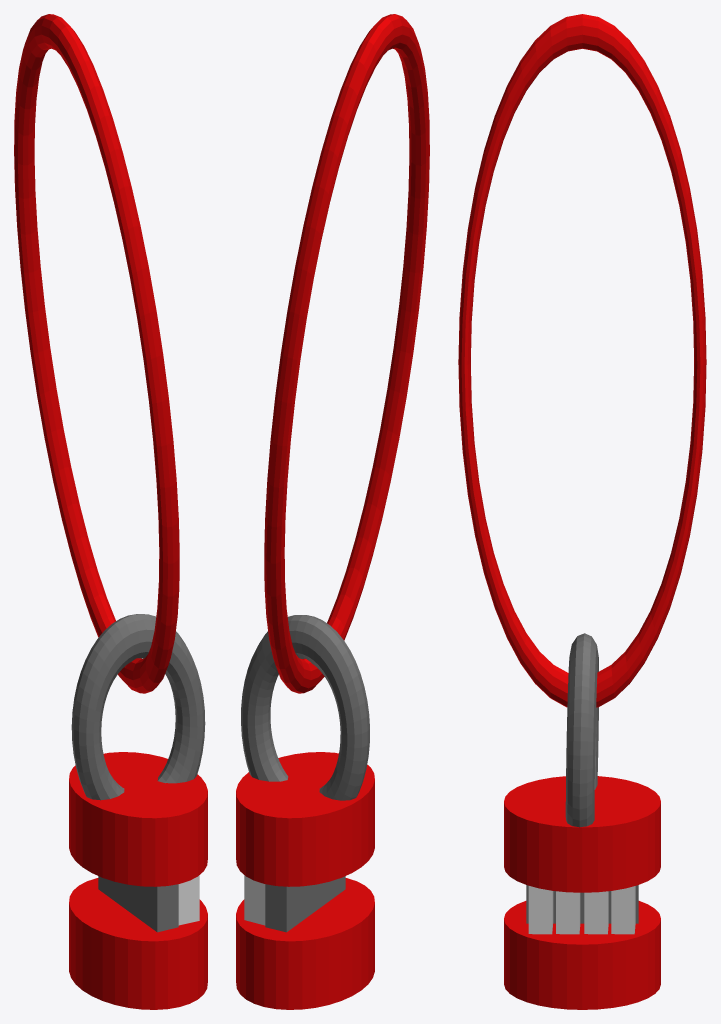
The model's file is redlock4.fbx.
3 renders of one model, left to right at view 1: azimuth 30°, elevation 25°; view 2: azimuth 150°, elevation 25°; view 3: azimuth 270°, elevation 25°, orthographic. The views are drawn at different scales.
Visible parts, largest first — view 1: Torus.002, Cylinder, Cylinder.001, Torus.001, Cube.002, Cube.003; view 2: Torus.002, Cylinder, Cylinder.001, Torus.001, Cube.002, Cube.001; view 3: Torus.002, Cylinder, Cylinder.001, Torus.001, Cube.003, Cube.001, Cube.005, Cube.004, Cube.002.
Boxes of the visible parts, left/top/right/bottom form: Torus.002: left=14, top=14, right=179, bottom=693; Cylinder: left=69, top=752, right=207, bottom=886; Cylinder.001: left=69, top=878, right=207, bottom=1009; Torus.001: left=71, top=614, right=205, bottom=800; Cube.002: left=98, top=876, right=178, bottom=932; Cube.003: left=178, top=875, right=199, bottom=925; Torus.002: left=264, top=14, right=429, bottom=693; Cylinder: left=236, top=752, right=374, bottom=886; Cylinder.001: left=236, top=878, right=374, bottom=1009; Torus.001: left=241, top=615, right=369, bottom=800; Cube.002: left=265, top=876, right=345, bottom=932; Cube.001: left=244, top=875, right=265, bottom=925; Torus.002: left=458, top=14, right=706, bottom=707; Cylinder: left=504, top=776, right=660, bottom=892; Cylinder.001: left=504, top=901, right=660, bottom=1009; Torus.001: left=565, top=633, right=598, bottom=827; Cube.003: left=528, top=886, right=553, bottom=934; Cube.001: left=611, top=886, right=635, bottom=934; Cube.005: left=584, top=891, right=608, bottom=934; Cube.004: left=556, top=891, right=580, bottom=934; Cube.002: left=526, top=885, right=638, bottom=923.
Size of the model in its own units: 34.79 by 213 by 51.42.
